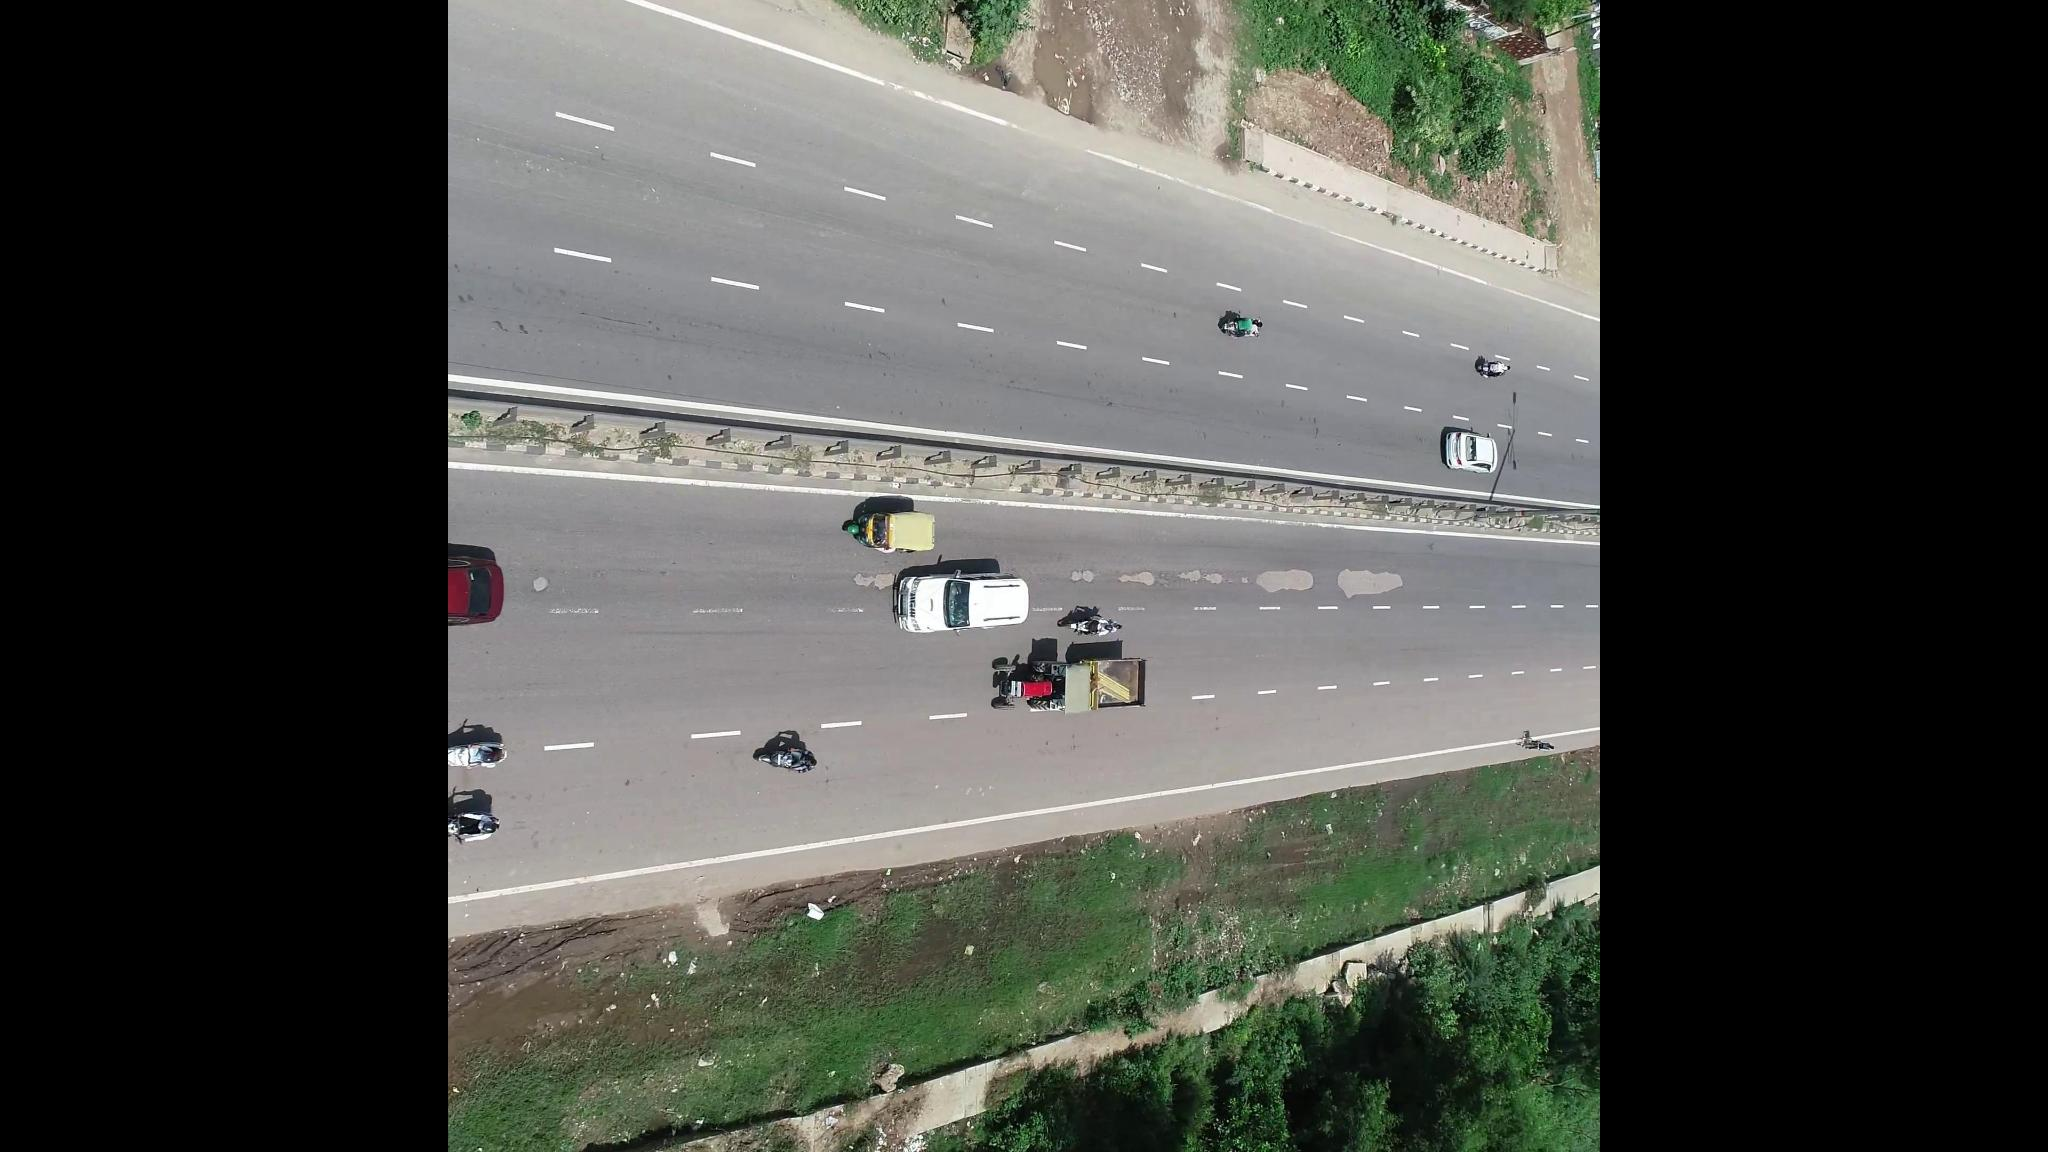Potholes: (1068, 549, 1256, 608), (1328, 564, 1409, 608), (1255, 558, 1326, 596)
